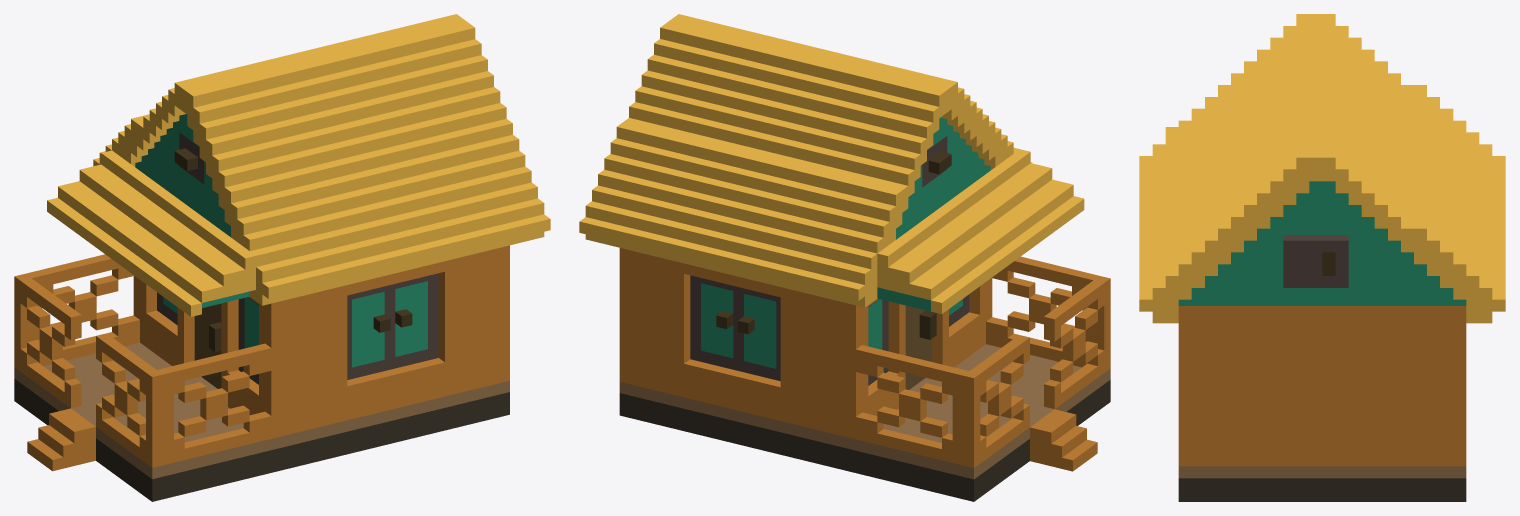
The model's file is id-beach-hut.obj.
3 views of the same model, side by side, from view 1: azimuth 30°, elevation 25°; view 2: azimuth 150°, elevation 25°; view 3: azimuth 270°, elevation 25° (orthographic). The views are drawn at different scales.
Size of the model in its own units: 39 by 30 by 28.
1 material, 1 textured.
